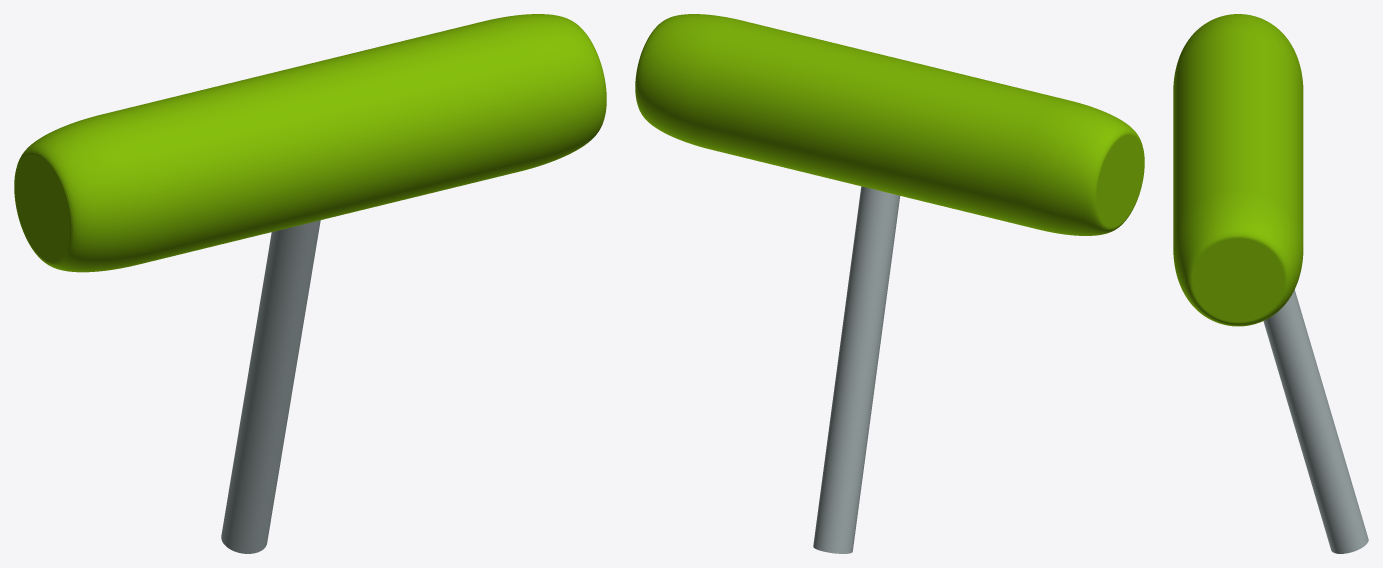
Rendered from Lever_Green2.glb.
3 renders of one model, left to right at view 1: azimuth 30°, elevation 25°; view 2: azimuth 150°, elevation 25°; view 3: azimuth 270°, elevation 25°, orthographic. The views are drawn at different scales.
Visible parts, largest first — view 1: Lever Top, Lever Body; view 2: Lever Top, Lever Body; view 3: Lever Top, Lever Body.
Part boxes in pixels (x1=…): Lever Top: x1=14, y1=14, x2=606, y2=272; Lever Body: x1=221, y1=220, x2=320, y2=553; Lever Top: x1=635, y1=14, x2=1144, y2=235; Lever Body: x1=813, y1=186, x2=900, y2=553; Lever Top: x1=1173, y1=14, x2=1303, y2=326; Lever Body: x1=1263, y1=290, x2=1368, y2=553.
Size of the model in its own units: 0.2 by 0.1856 by 0.0751.
